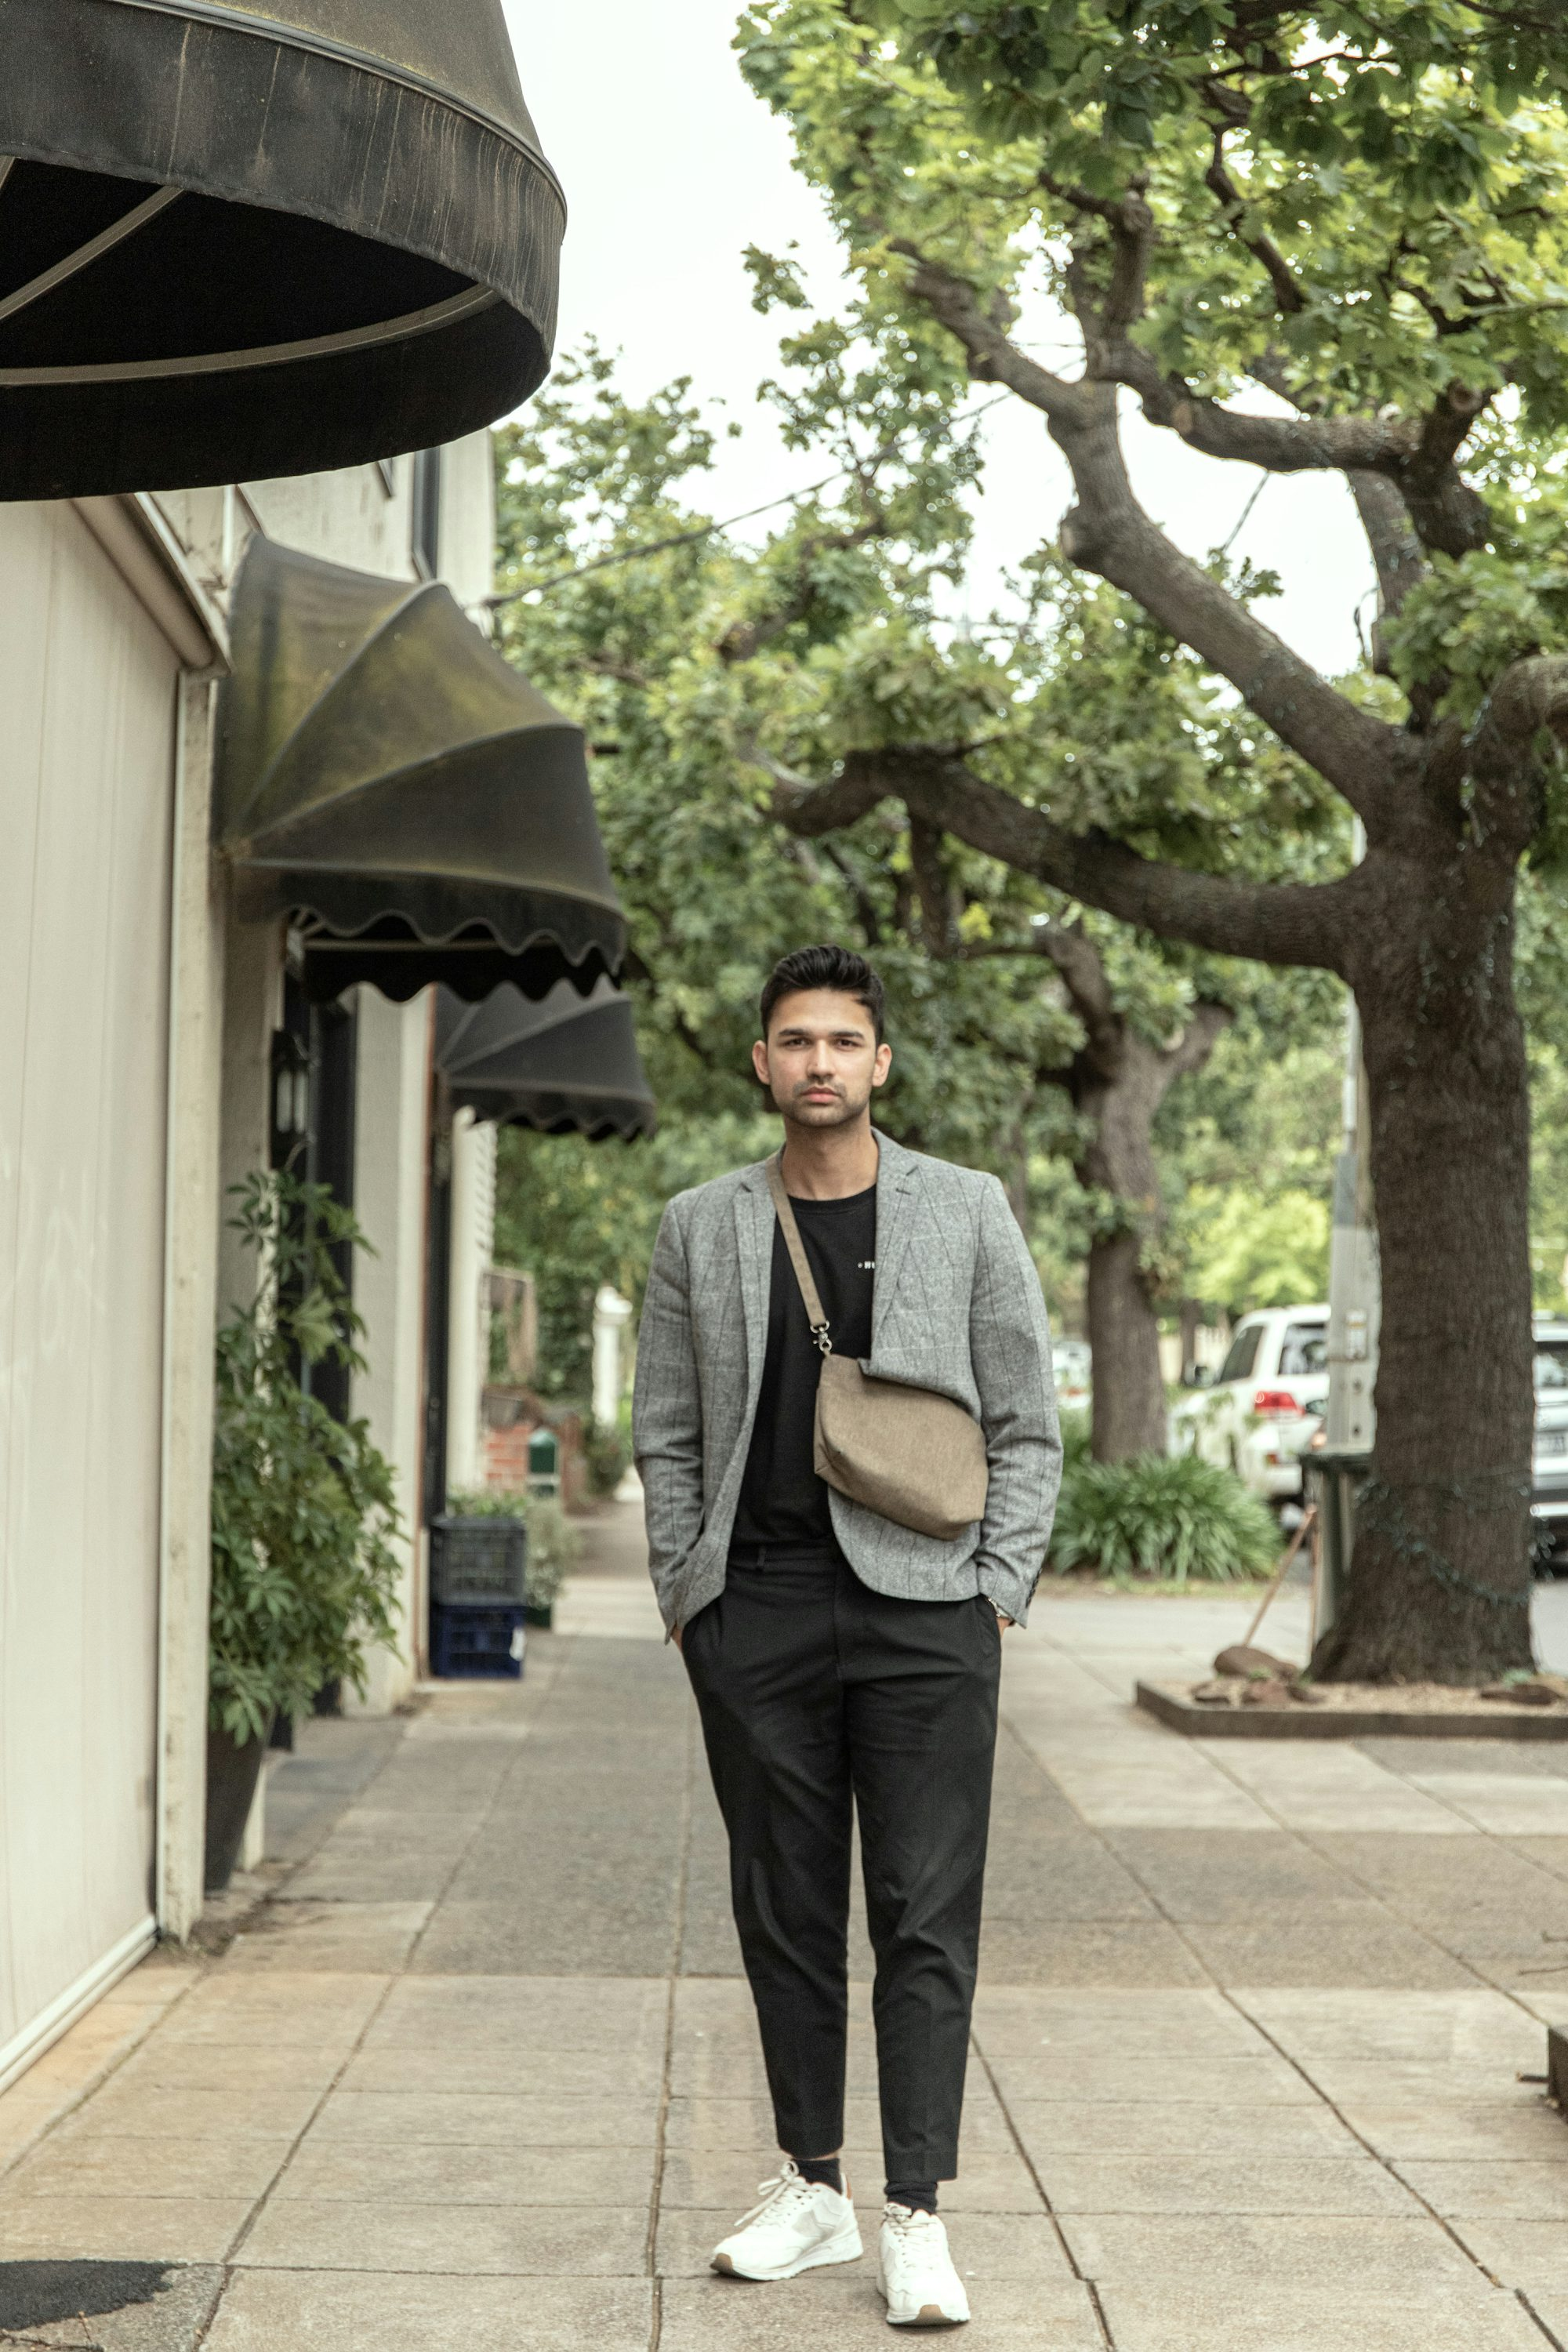door: (270, 987, 393, 1795), (415, 1083, 476, 1534)
person: (583, 911, 1147, 2352)
